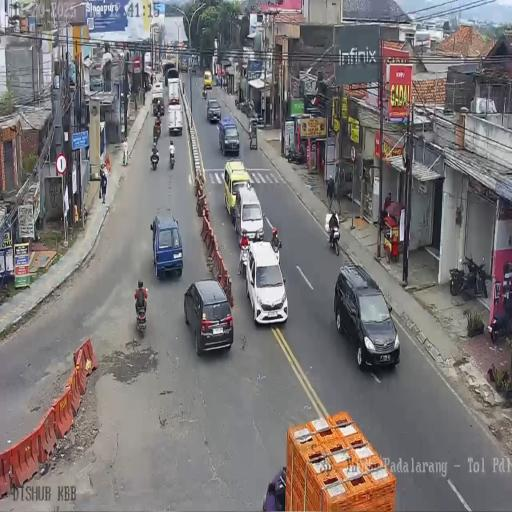car: (336, 262, 401, 366), (182, 279, 234, 355), (244, 243, 288, 325), (150, 209, 184, 279), (234, 184, 262, 246), (217, 117, 239, 156), (206, 98, 222, 122), (204, 70, 212, 90), (190, 61, 198, 74)
motorcycle: (460, 254, 489, 300), (488, 310, 509, 343), (134, 292, 148, 333), (327, 215, 340, 256), (286, 145, 304, 165), (248, 108, 264, 127), (150, 142, 160, 170), (169, 145, 176, 169), (156, 108, 162, 125), (235, 98, 241, 110), (222, 77, 227, 91)
truck: (167, 72, 182, 136), (151, 82, 164, 114), (162, 58, 176, 82), (180, 57, 189, 72)
